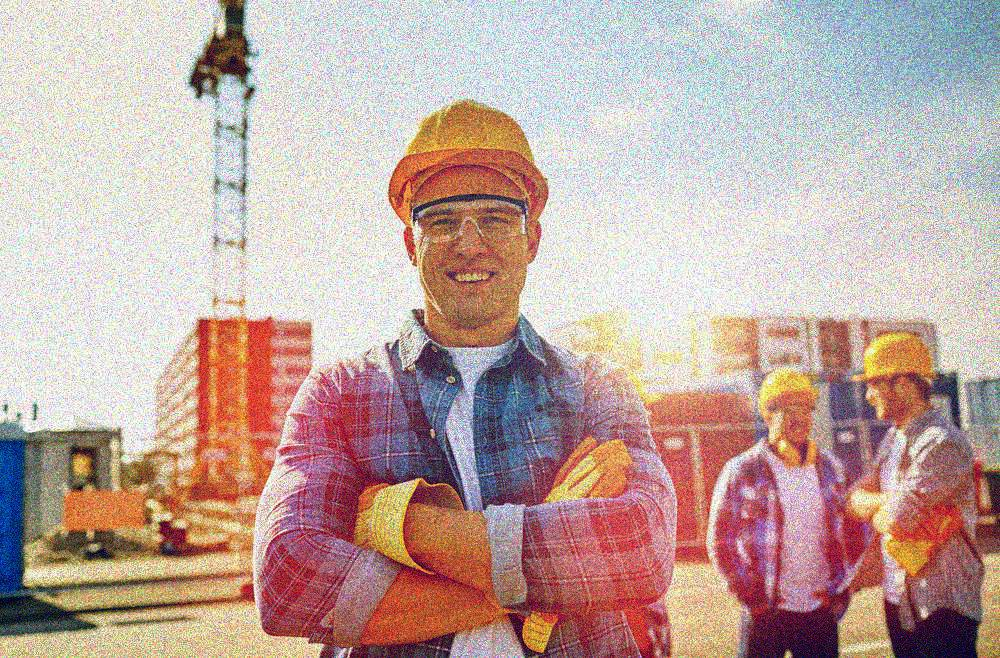helmet: (384, 93, 554, 327), (847, 331, 940, 426), (756, 364, 821, 446)
